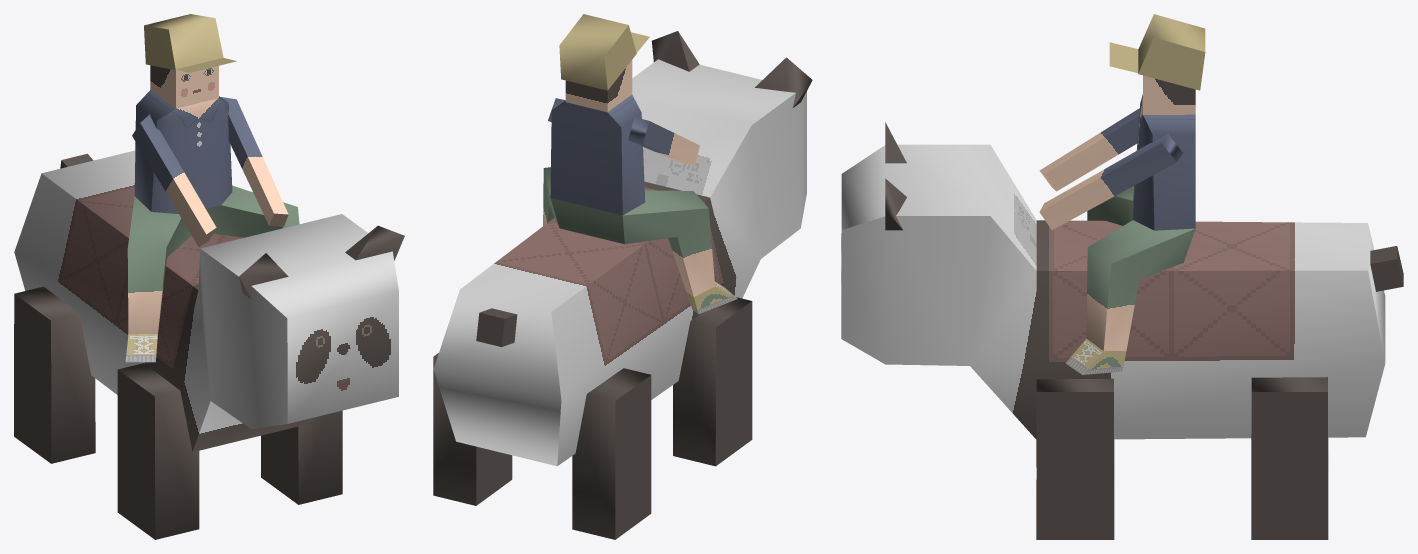
Rendered from 01ef_Panda_Ride.glb.
3 renders of one model, left to right at view 1: azimuth 30°, elevation 25°; view 2: azimuth 150°, elevation 25°; view 3: azimuth 270°, elevation 25°, orthographic. The views are drawn at different scales.
Visible parts, largest first — view 1: part_0; view 2: part_0; view 3: part_0.
Boxes of the visible parts, x1,y1,x2,y2 form: part_0: (14, 14, 404, 539); part_0: (433, 14, 812, 539); part_0: (841, 14, 1403, 539).
Size of the model in its own units: 0.739 by 1.58 by 1.72.
Materials: 1 (1 with a texture image).
